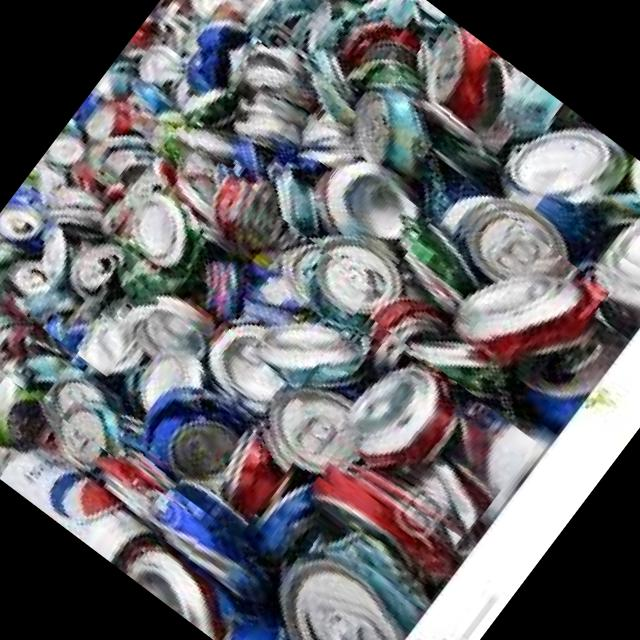Cans: (280, 312, 537, 555), (0, 375, 213, 600), (96, 339, 307, 537), (178, 206, 374, 406), (217, 476, 442, 640), (415, 195, 610, 381), (370, 14, 544, 190), (503, 103, 640, 309), (113, 125, 281, 290), (9, 218, 172, 376), (210, 40, 336, 163), (308, 152, 434, 268), (303, 0, 407, 57)
